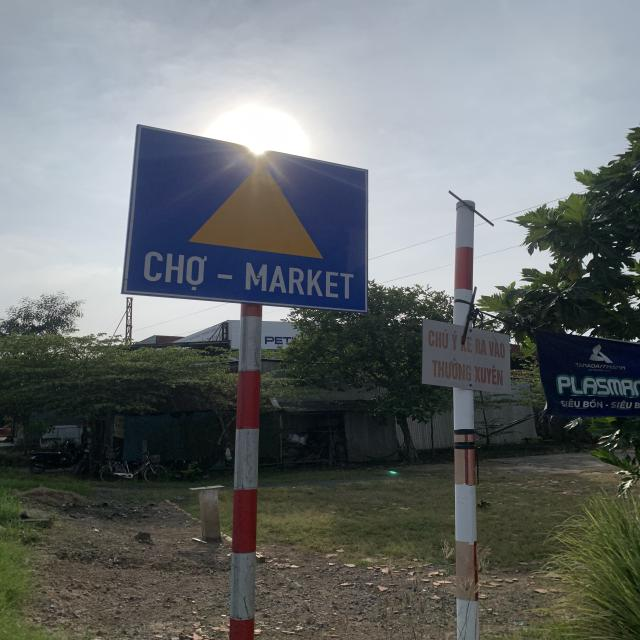Cho_Quay_Xe: (122, 126, 368, 312)
